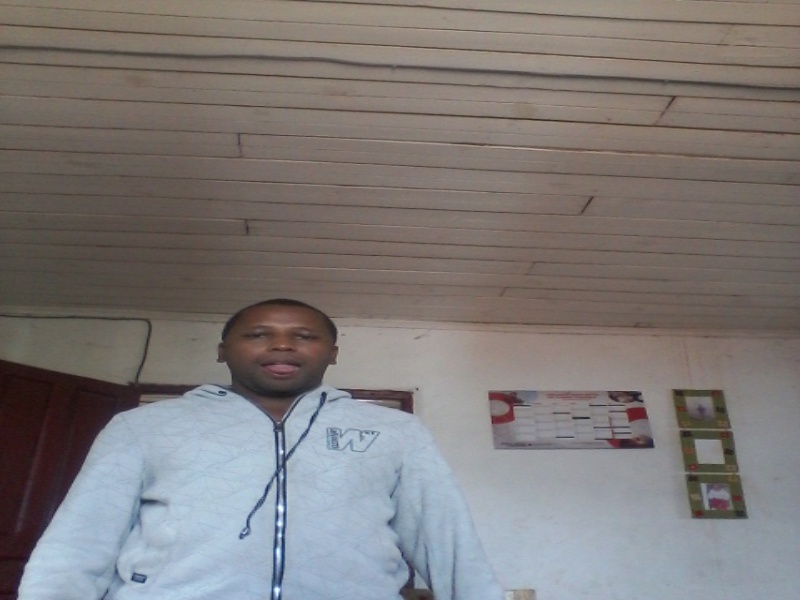TsisyArotava: (213, 289, 347, 410)
